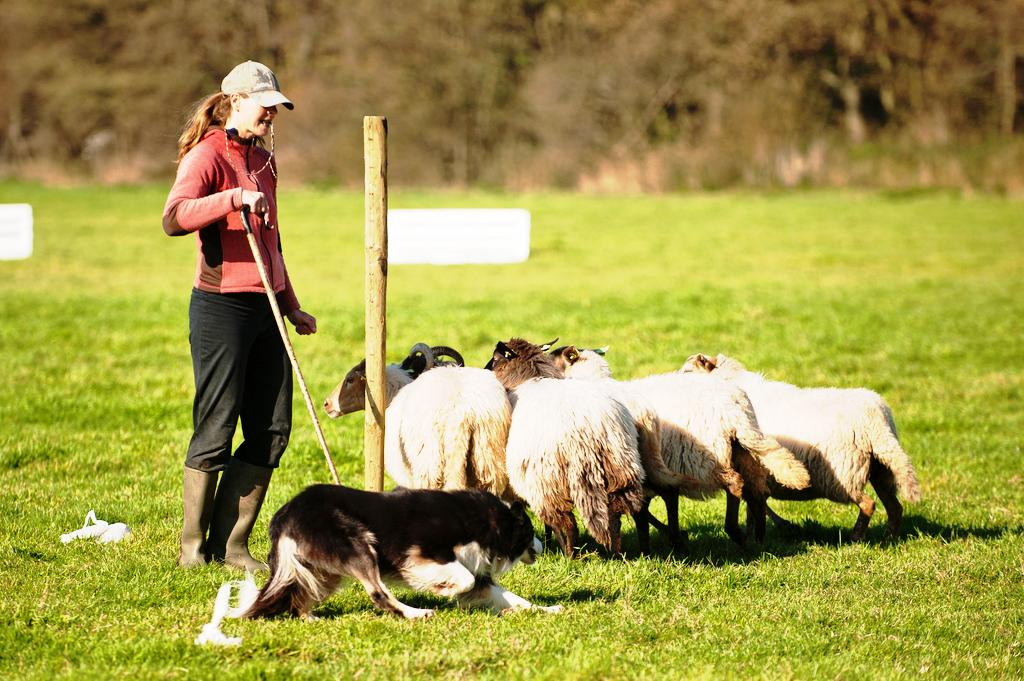Sheep: (548, 342, 808, 556), (548, 345, 810, 541), (676, 351, 924, 542), (482, 335, 646, 556), (321, 357, 509, 500), (398, 341, 474, 425)
